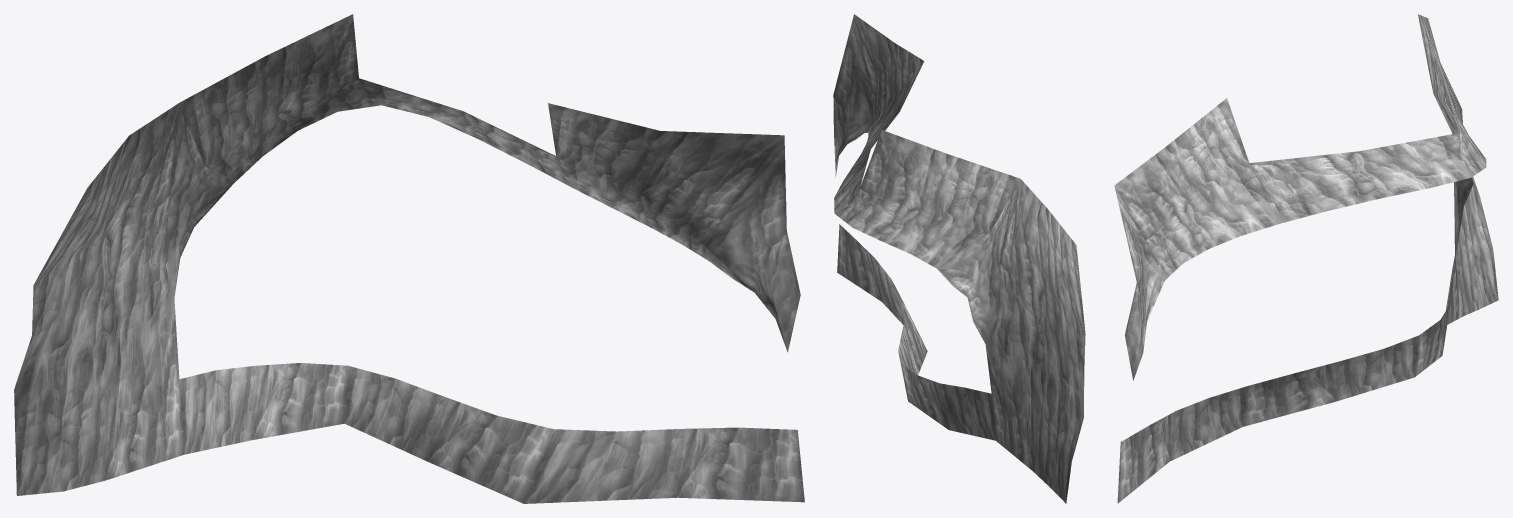
File: SWORDLIGHT20_PS-AREA03_193.fbx
3 views of the same model, side by side, from view 1: azimuth 30°, elevation 25°; view 2: azimuth 150°, elevation 25°; view 3: azimuth 270°, elevation 25° (orthographic). The views are drawn at different scales.
Visible parts, largest first — view 1: SWORDLIGHT20_PS-AREA03_193; view 2: SWORDLIGHT20_PS-AREA03_193; view 3: SWORDLIGHT20_PS-AREA03_193.
Part boxes in pixels (x1,y1,x2,y2): SWORDLIGHT20_PS-AREA03_193: (14, 14, 804, 503); SWORDLIGHT20_PS-AREA03_193: (833, 14, 1085, 503); SWORDLIGHT20_PS-AREA03_193: (1114, 14, 1498, 503).
Size of the model in its own units: 184045 by 133849 by 129376.
2 materials, 2 textured.
